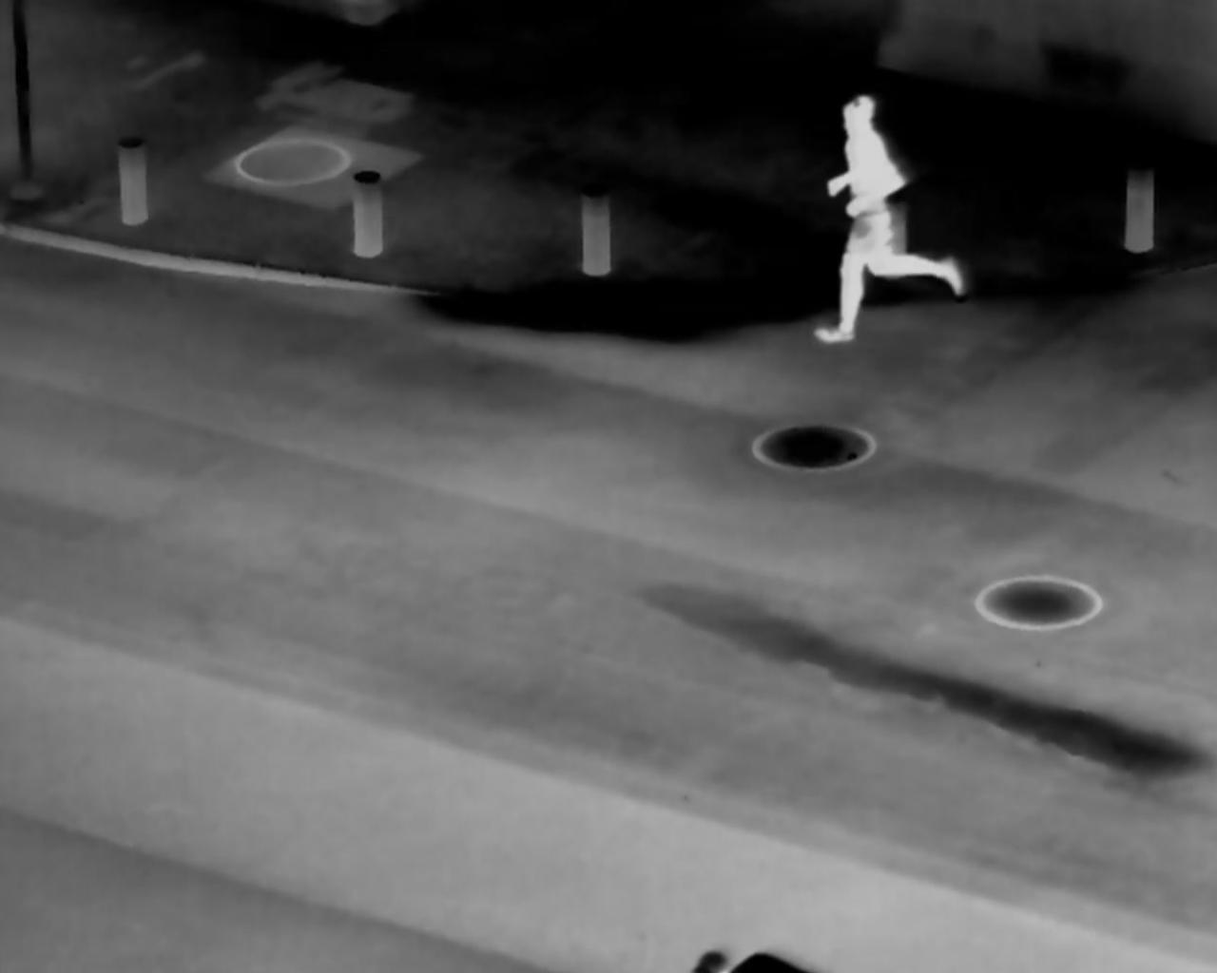person: (809, 88, 965, 341)
